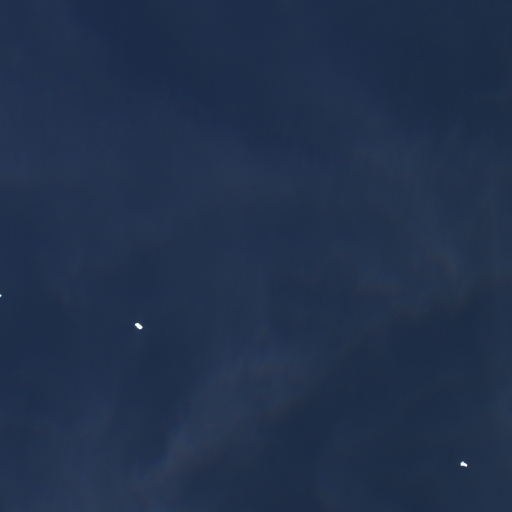Iceberg: (135, 322, 142, 329), (460, 461, 467, 466), (0, 294, 1, 297)
